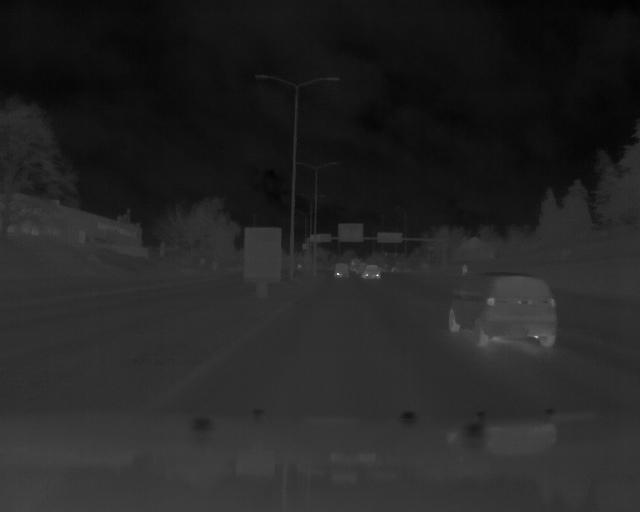car: (444, 270, 560, 351), (358, 262, 380, 280), (331, 262, 351, 280)
